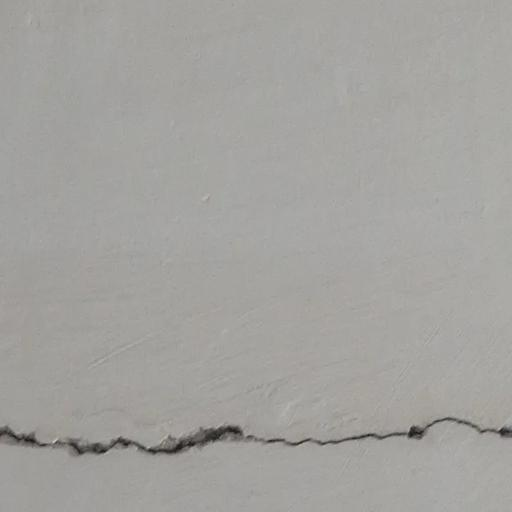major_crack: (0, 395, 512, 461)
